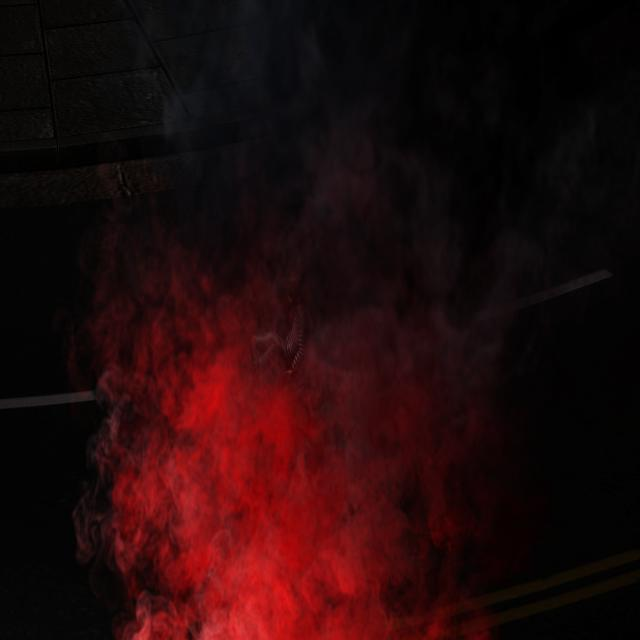Human: (245, 266, 314, 389)
